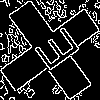E: (25, 25, 82, 79)
